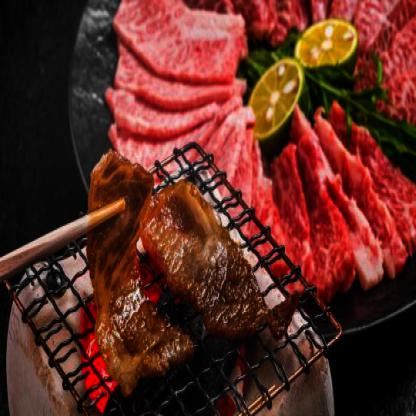Carne: (140, 176, 298, 341), (83, 156, 195, 387)
